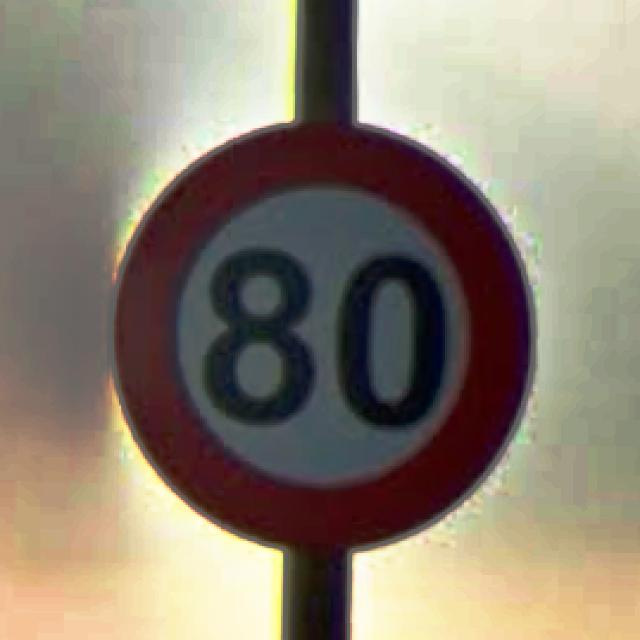max80: (107, 114, 535, 553)
